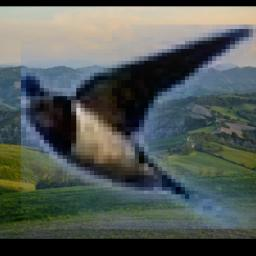Swallow: (22, 25, 256, 230)
